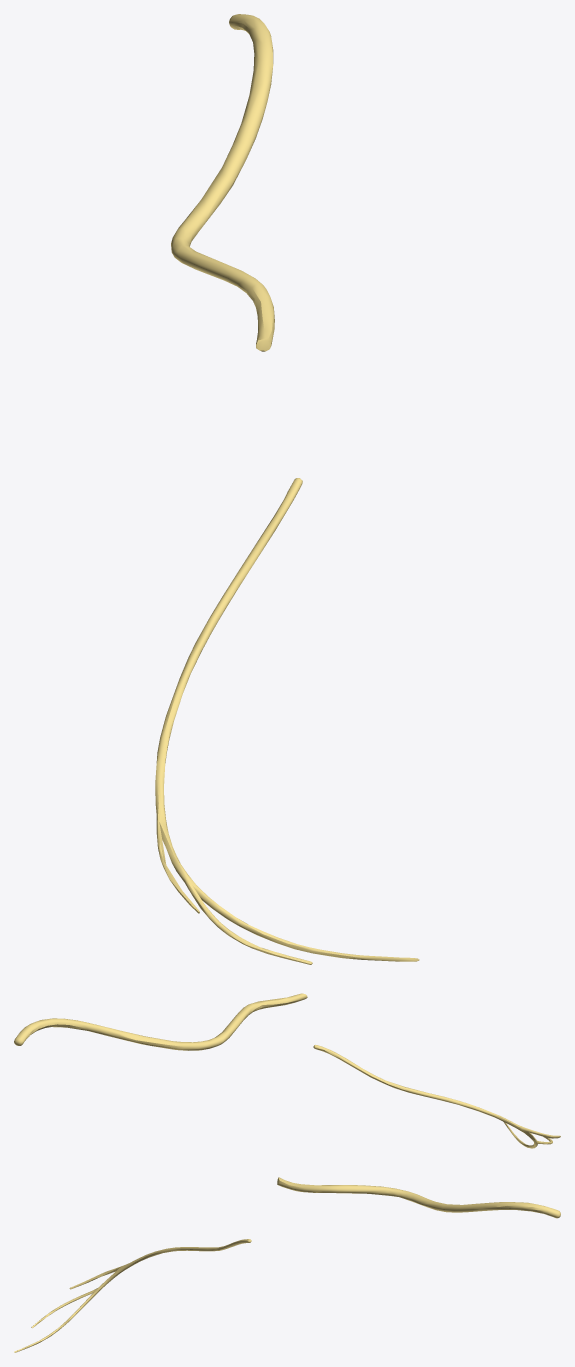
File: fma65425_cx136.glb
3 views of the same model, one above another, from view 1: azimuth 30°, elevation 25°; view 2: azimuth 150°, elevation 25°; view 3: azimuth 270°, elevation 25° (orthographic). The views are drawn at different scales.
Visible parts, largest first — view 1: FMA65425_CX136; view 2: FMA65425_CX136; view 3: FMA65425_CX136.
Boxes of the visible parts, left/top/right/bottom form: FMA65425_CX136: left=155, top=14, right=419, bottom=964; FMA65425_CX136: left=14, top=993, right=560, bottom=1148; FMA65425_CX136: left=14, top=1177, right=560, bottom=1352.
Bounding box in the file's own units: 0.0372 × 0.0312 × 0.0651.
